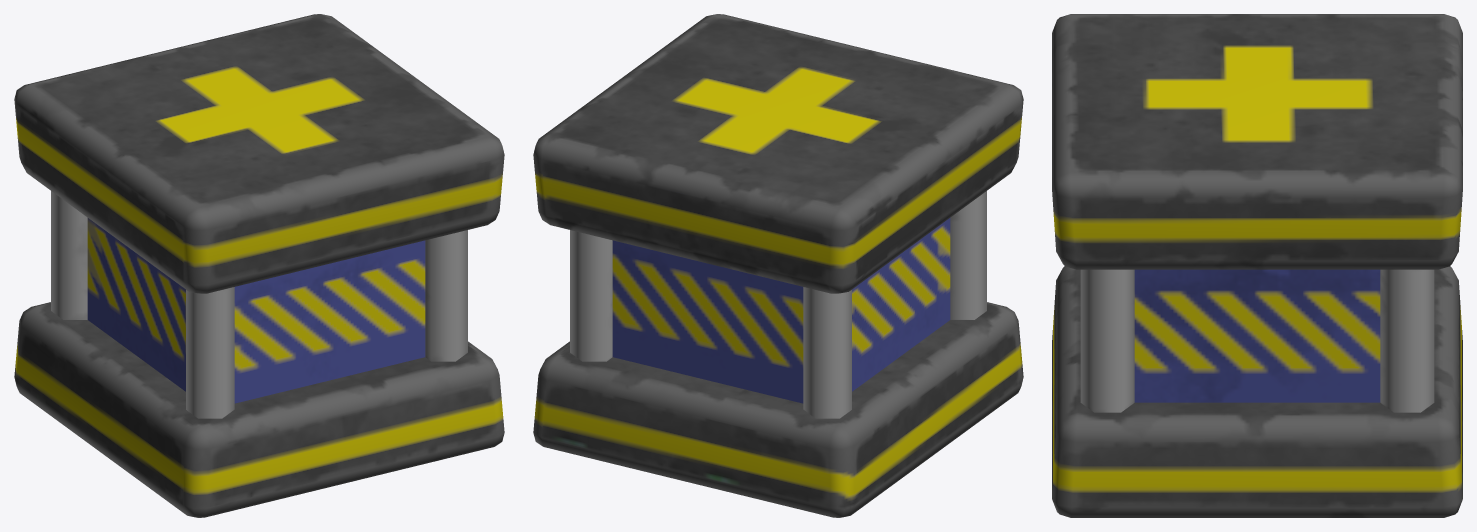
File: Pickup_V1.fbx
3 renders of one model, left to right at view 1: azimuth 30°, elevation 25°; view 2: azimuth 150°, elevation 25°; view 3: azimuth 270°, elevation 25°, orthographic. The views are drawn at different scales.
Parts seen in each view (by area): view 1: Pickup; view 2: Pickup; view 3: Pickup.
Boxes of the visible parts, box(x1,y1,x2,y2) form: Pickup: box(14, 14, 504, 517); Pickup: box(533, 14, 1023, 517); Pickup: box(1052, 14, 1462, 517).
Size of the model in its own units: 56.04 by 56.04 by 51.91.
Materials: 1 (1 with a texture image).
